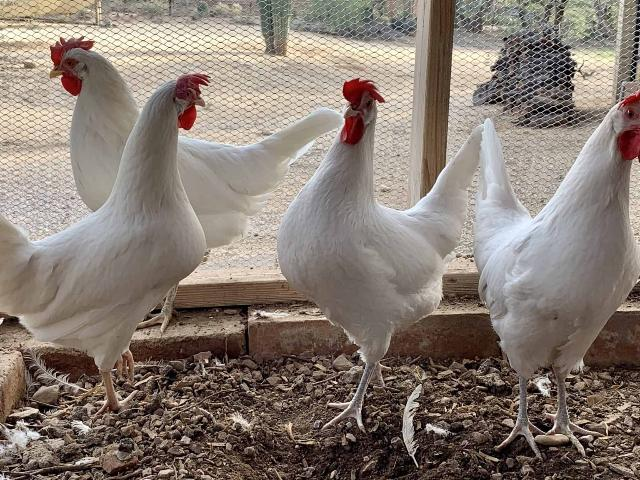Chicken: (48, 34, 342, 335), (274, 77, 481, 433), (0, 72, 212, 415), (479, 90, 640, 458)
